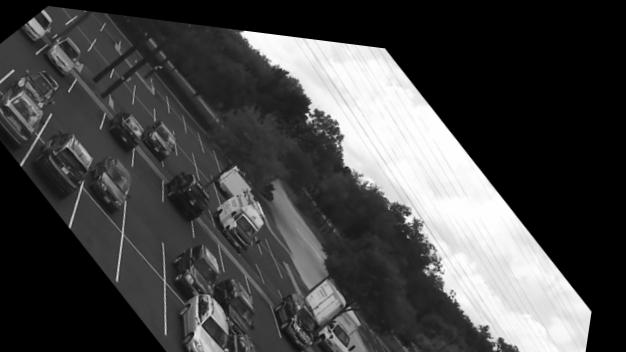empty: (121, 236, 168, 326), (134, 194, 188, 270), (83, 188, 127, 265), (68, 75, 111, 128), (257, 275, 287, 325), (227, 241, 258, 286), (59, 109, 93, 146), (140, 148, 165, 194), (203, 216, 230, 253), (263, 226, 287, 265), (88, 40, 113, 77), (65, 18, 92, 50), (113, 67, 136, 104), (0, 36, 27, 67), (180, 141, 203, 174), (115, 55, 138, 88), (73, 14, 100, 42), (204, 163, 224, 197), (96, 34, 118, 64), (135, 91, 157, 119), (138, 78, 158, 108), (268, 326, 291, 352), (46, 5, 73, 26), (83, 8, 107, 31), (200, 145, 219, 174), (159, 98, 177, 128), (101, 18, 121, 45), (180, 125, 199, 153), (206, 134, 223, 161), (157, 72, 171, 104), (171, 152, 193, 170), (174, 97, 187, 126), (191, 117, 205, 143), (118, 95, 135, 112), (65, 6, 81, 16)
occupied: (38, 130, 98, 205), (183, 287, 240, 352), (0, 80, 51, 152), (280, 284, 334, 345), (220, 183, 270, 248), (168, 166, 215, 221), (93, 154, 136, 214), (178, 238, 227, 290), (220, 272, 265, 327), (111, 107, 147, 151), (145, 115, 181, 157), (46, 35, 81, 75), (16, 70, 60, 101), (21, 8, 52, 42), (235, 328, 275, 352)
